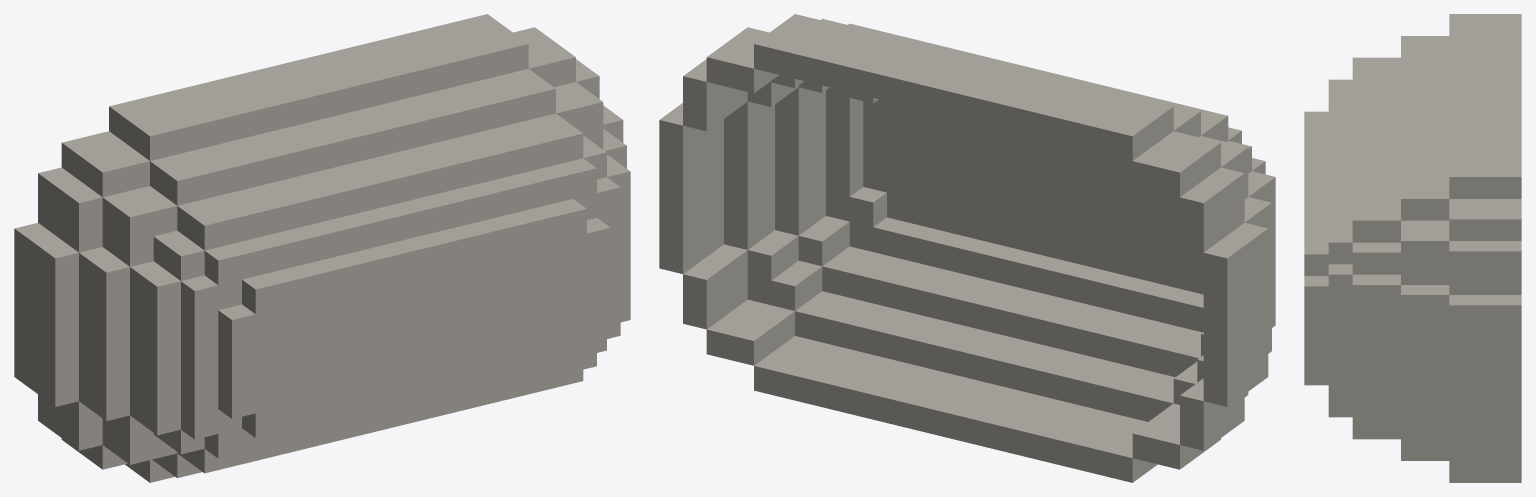
Rendered from Bunker_Light_Glass.obj.
3 renders of one model, left to right at view 1: azimuth 30°, elevation 25°; view 2: azimuth 150°, elevation 25°; view 3: azimuth 270°, elevation 25°, orthographic. The views are drawn at different scales.
Bounding box in the file's own units: 2.4 × 1.4 × 0.9.
